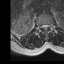CCS_normal: (44, 21, 46, 32)
LFS_normal: (48, 21, 50, 29)
LLS_normal: (46, 22, 48, 30)
RFS_normal: (40, 22, 42, 30)
RLS_normal: (42, 23, 44, 30)
